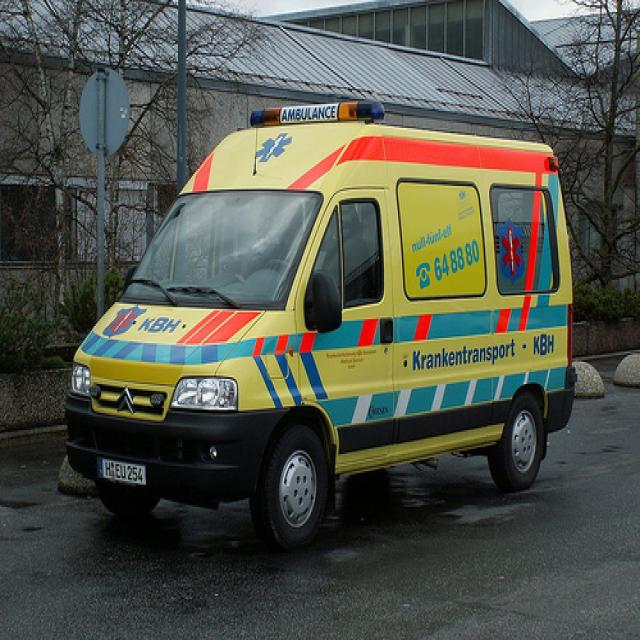emergency-vehicle: (68, 123, 572, 563)
